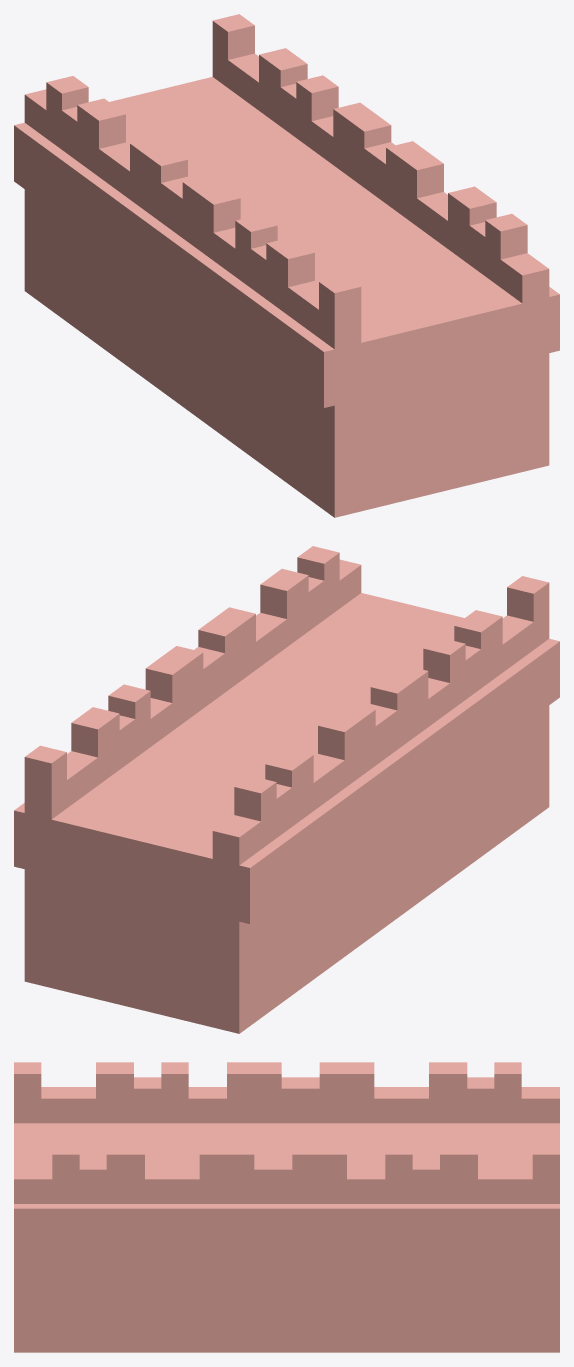
Rendered from muralha remodelada p1.fbx.
3 renders of one model, top to bottom at view 1: azimuth 30°, elevation 25°; view 2: azimuth 150°, elevation 25°; view 3: azimuth 270°, elevation 25°, orthographic. The views are drawn at different scales.
Visible parts, largest first — view 1: muralha remodelada p1; view 2: muralha remodelada p1; view 3: muralha remodelada p1.
Boxes of the visible parts, <box> form: muralha remodelada p1: <box>14,14,559,517</box>; muralha remodelada p1: <box>14,546,559,1033</box>; muralha remodelada p1: <box>14,1062,559,1352</box>.
Bounding box in the file's own units: 440 × 400 × 1000.
